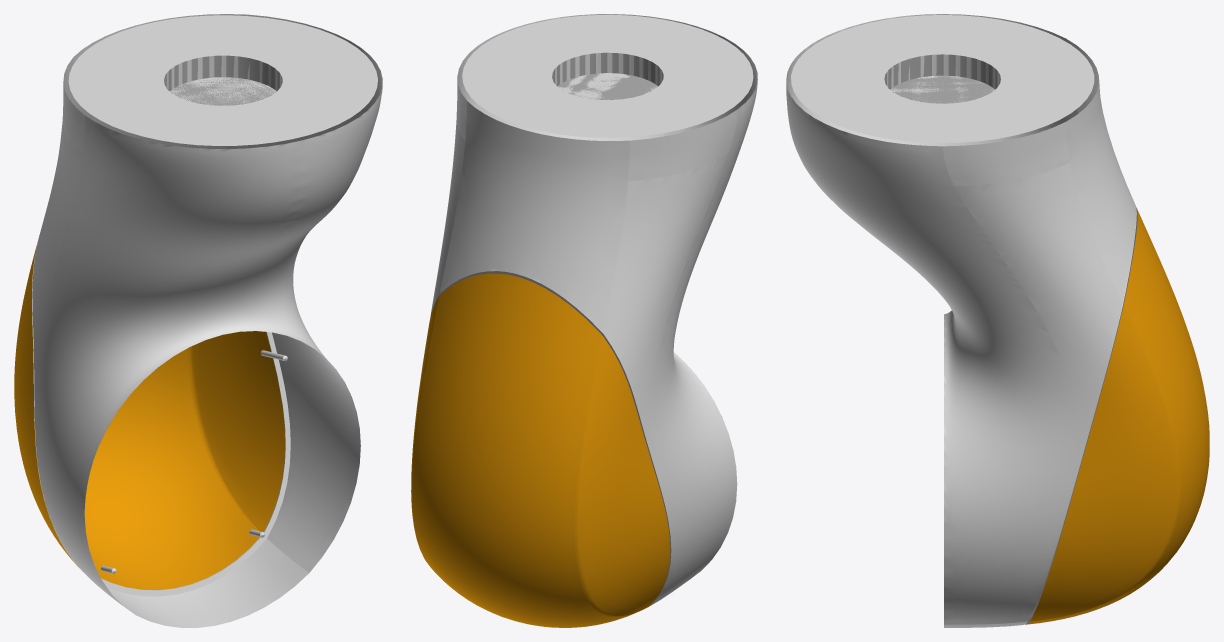
The picture shows the model from 3 angles, left to right: view 1: azimuth 30°, elevation 25°; view 2: azimuth 150°, elevation 25°; view 3: azimuth 270°, elevation 25°; orthographic projection. The views are drawn at different scales.
Parts seen in each view (by area): view 1: ShapeIndexedFaceS_293, ShapeIndexedFaceS_314, ShapeIndexedFaceS_326, ShapeIndexedFaceS_265, ShapeIndexedFaceS_256, ShapeIndexedFaceS_269, ShapeIndexedFaceS_252, ShapeIndexedFaceS_304, ShapeIndexedFaceS_367, ShapeIndexedFaceS_300, ShapeIndexedFaceS_310, ShapeIndexedFaceS_301 (+2 smaller); view 2: ShapeIndexedFaceS_265, ShapeIndexedFaceS_293, ShapeIndexedFaceS_281, ShapeIndexedFaceS_314, ShapeIndexedFaceS_252, ShapeIndexedFaceS_289, ShapeIndexedFaceS_326, ShapeIndexedFaceS_300, ShapeIndexedFaceS_304, ShapeIndexedFaceS_301, ShapeIndexedFaceS_310, ShapeIndexedFaceS_256 (+2 smaller); view 3: ShapeIndexedFaceS_326, ShapeIndexedFaceS_314, ShapeIndexedFaceS_256, ShapeIndexedFaceS_265, ShapeIndexedFaceS_281, ShapeIndexedFaceS_322, ShapeIndexedFaceS_304, ShapeIndexedFaceS_293, ShapeIndexedFaceS_300, ShapeIndexedFaceS_301, ShapeIndexedFaceS_379.
Part boxes in pixels (x1,y1,x2,y2): ShapeIndexedFaceS_293: (32,98,302,610); ShapeIndexedFaceS_314: (68,15,377,145); ShapeIndexedFaceS_326: (217,48,382,572); ShapeIndexedFaceS_265: (84,348,259,589); ShapeIndexedFaceS_256: (188,331,285,532); ShapeIndexedFaceS_269: (107,539,308,627); ShapeIndexedFaceS_252: (14,242,77,566); ShapeIndexedFaceS_304: (170,77,275,105); ShapeIndexedFaceS_367: (101,404,290,596); ShapeIndexedFaceS_300: (164,55,282,104); ShapeIndexedFaceS_310: (170,77,276,105); ShapeIndexedFaceS_301: (164,55,282,91); ShapeIndexedFaceS_265: (412,273,633,627); ShapeIndexedFaceS_293: (604,22,757,605); ShapeIndexedFaceS_281: (440,101,629,332); ShapeIndexedFaceS_314: (462,15,753,137); ShapeIndexedFaceS_252: (574,335,670,617); ShapeIndexedFaceS_289: (628,109,737,181); ShapeIndexedFaceS_326: (430,14,682,314); ShapeIndexedFaceS_300: (552,52,663,99); ShapeIndexedFaceS_304: (558,73,657,99); ShapeIndexedFaceS_301: (552,52,661,85); ShapeIndexedFaceS_310: (557,73,656,99); ShapeIndexedFaceS_256: (411,296,439,559); ShapeIndexedFaceS_326: (786,82,1122,624); ShapeIndexedFaceS_314: (791,15,1094,143); ShapeIndexedFaceS_256: (1030,303,1180,621); ShapeIndexedFaceS_265: (1027,210,1209,624); ShapeIndexedFaceS_281: (1066,39,1136,301); ShapeIndexedFaceS_322: (942,122,1069,185); ShapeIndexedFaceS_304: (891,75,994,103); ShapeIndexedFaceS_293: (786,14,1077,328); ShapeIndexedFaceS_300: (885,54,1000,101); ShapeIndexedFaceS_301: (884,54,1000,89); ShapeIndexedFaceS_379: (1025,207,1137,624).
Bounding box in the file's own units: 134 × 181 × 252.
